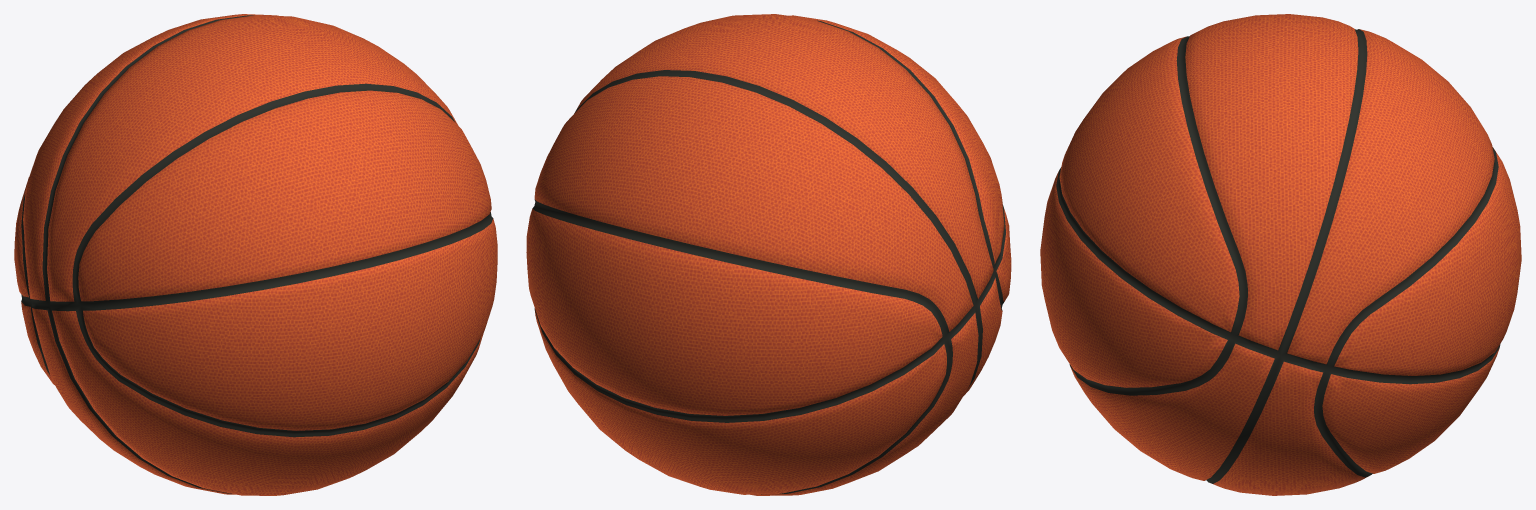
The model's file is ball.DAE.
3 views of the same model, side by side, from view 1: azimuth 30°, elevation 25°; view 2: azimuth 150°, elevation 25°; view 3: azimuth 270°, elevation 25° (orthographic).
Parts seen in each view (by area): view 1: basketBall; view 2: basketBall; view 3: basketBall.
Part boxes in pixels (x1,y1,x2,y2): basketBall: (14, 14, 497, 495); basketBall: (526, 14, 1011, 495); basketBall: (1040, 14, 1521, 495).
Bounding box in the file's own units: 16.46 × 16.61 × 16.58.
1 material, 1 textured.
